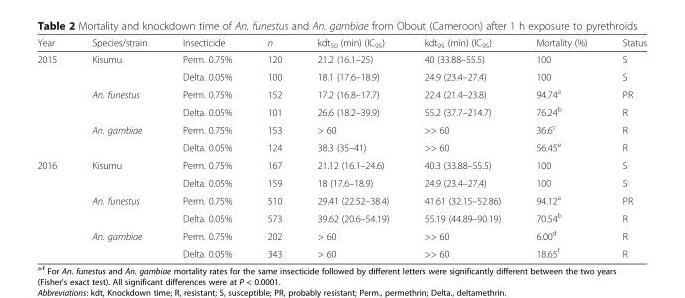table: (36, 36, 646, 259)
table column: (405, 36, 517, 259), (298, 36, 405, 259), (73, 36, 164, 259), (517, 36, 604, 259), (164, 36, 249, 259), (249, 36, 298, 259), (604, 36, 646, 259), (36, 36, 73, 259)
table column header: (36, 36, 646, 50)
table row: (36, 137, 646, 156), (36, 84, 646, 102), (36, 119, 646, 137), (36, 190, 646, 208), (36, 208, 646, 226), (36, 50, 646, 67), (36, 67, 646, 84), (36, 102, 646, 119), (36, 156, 646, 173), (36, 173, 646, 190), (36, 226, 646, 243), (36, 243, 646, 259), (36, 36, 646, 50)
table spanning cell: (36, 50, 73, 156), (36, 156, 73, 259)
